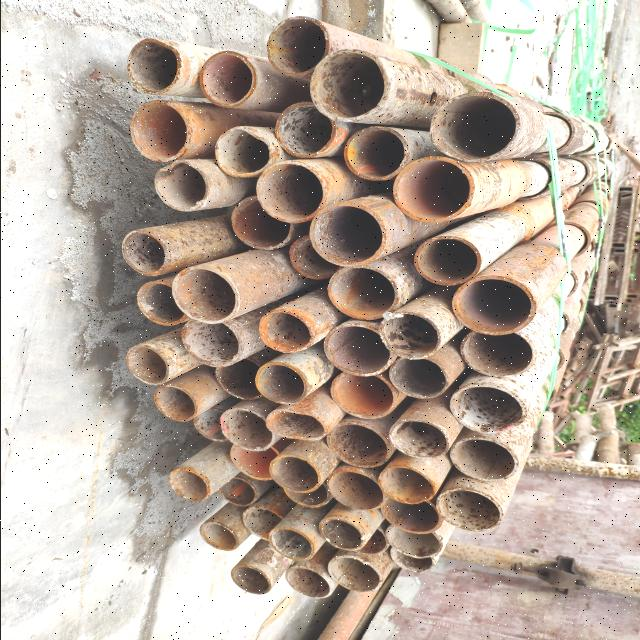pipe: (428, 91, 522, 163), (308, 48, 392, 124), (390, 156, 476, 224), (308, 201, 388, 267), (451, 275, 536, 336), (253, 160, 329, 224), (321, 320, 397, 378), (264, 15, 330, 79), (170, 265, 240, 325), (448, 382, 528, 434), (128, 99, 192, 164), (326, 265, 399, 321), (458, 328, 538, 379), (341, 124, 411, 182), (273, 101, 338, 160), (198, 50, 258, 110), (229, 194, 293, 250), (412, 236, 482, 286), (328, 371, 398, 421), (124, 36, 182, 96), (432, 486, 506, 532), (324, 420, 392, 470), (448, 434, 518, 482), (212, 125, 274, 179), (378, 310, 442, 360), (180, 318, 244, 368), (152, 159, 210, 213), (324, 466, 389, 512), (257, 308, 317, 354), (218, 406, 276, 453), (387, 356, 449, 399), (134, 280, 189, 328), (252, 361, 310, 406), (386, 420, 451, 460), (288, 234, 344, 280), (379, 495, 443, 535), (212, 356, 266, 402), (325, 554, 383, 594), (266, 454, 324, 494), (120, 228, 168, 276), (376, 466, 436, 504), (264, 408, 328, 443), (228, 440, 280, 482), (384, 523, 444, 559), (124, 344, 170, 386), (151, 384, 199, 423), (316, 516, 366, 552), (282, 564, 332, 600), (266, 527, 316, 563), (166, 465, 210, 505), (387, 543, 439, 575), (240, 506, 286, 542), (191, 407, 233, 443), (282, 480, 331, 510), (342, 526, 390, 556), (228, 564, 272, 595), (198, 520, 240, 552), (218, 476, 258, 508)
